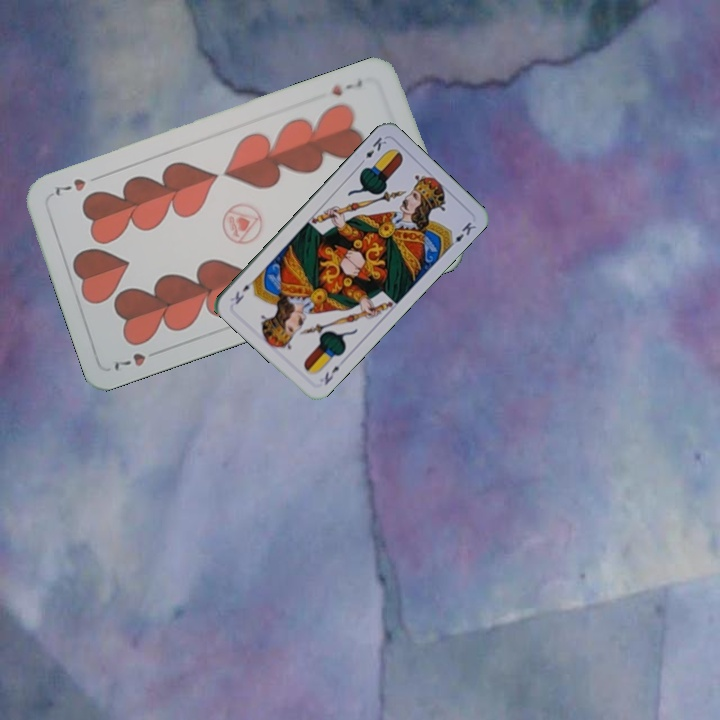EK: (356, 133, 389, 168), (320, 362, 342, 388)
H7: (110, 345, 165, 373), (328, 75, 365, 99)
